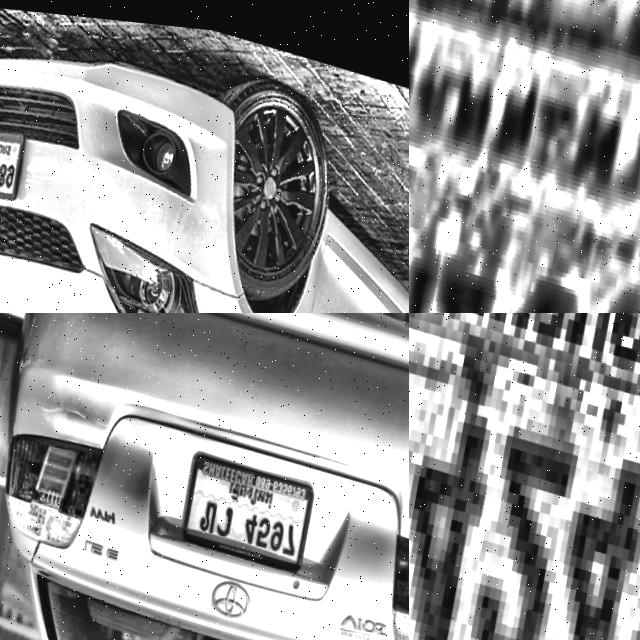license-plate: (409, 313, 640, 640), (409, 0, 640, 313), (172, 437, 321, 576), (0, 109, 30, 214)
